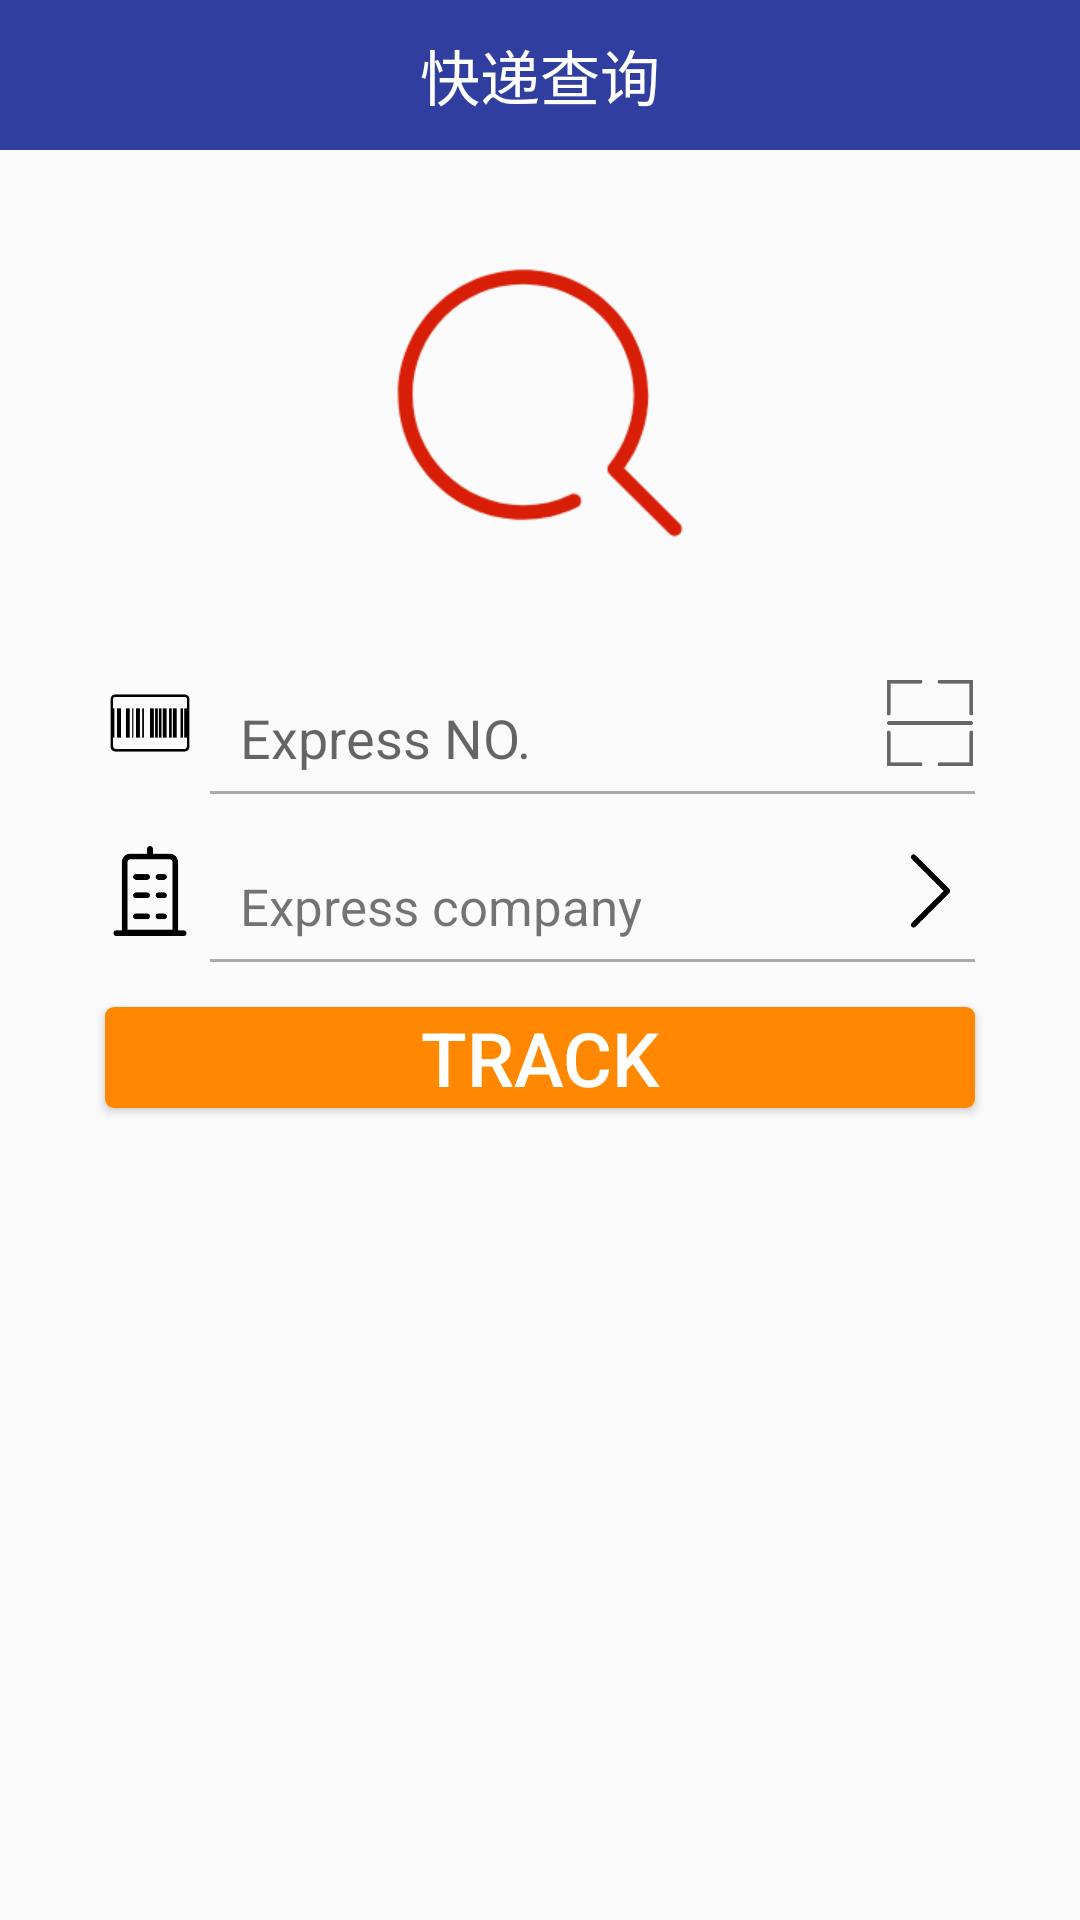

Named icons in this screenshot (1080w x 1920h) and their centers, (x=x, y=y):
arrow: (x=930, y=891)
barcode: (x=150, y=723)
scan: (x=930, y=723)
search: (x=540, y=403)
